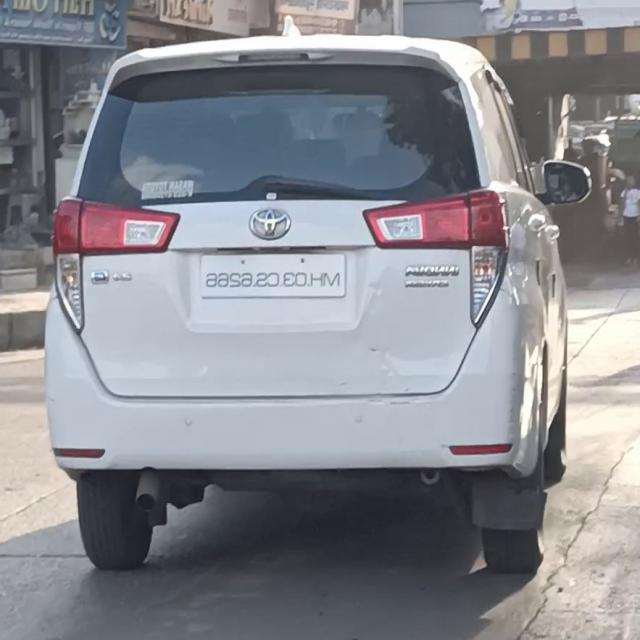license_plate: (193, 246, 354, 308)
